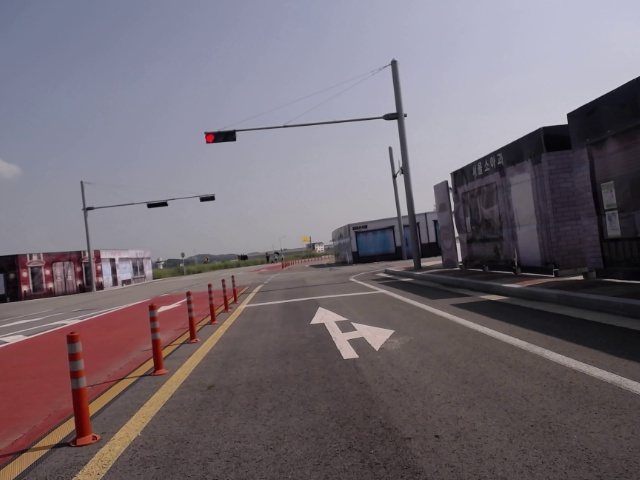red_3: (206, 131, 234, 142)
